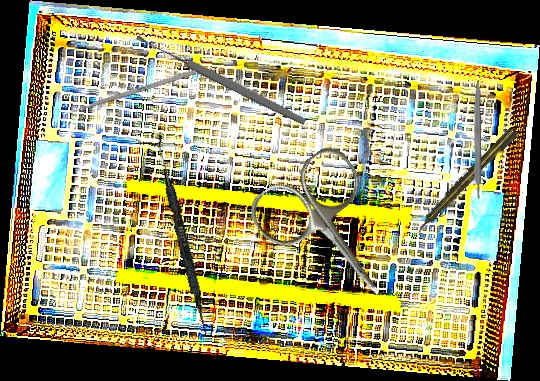Handpiece: (411, 125, 520, 238)
Iris Scissors: (242, 140, 423, 328)
Pusher: (59, 69, 197, 118)
Scalpel Handle: (473, 79, 481, 201)
Spatula Surgical: (149, 134, 215, 338)
Surgical Spoon: (134, 31, 308, 128)
